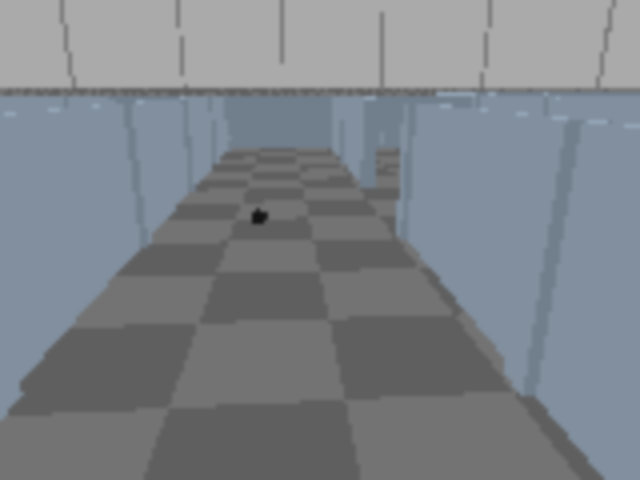person: (633, 0, 638, 221)
